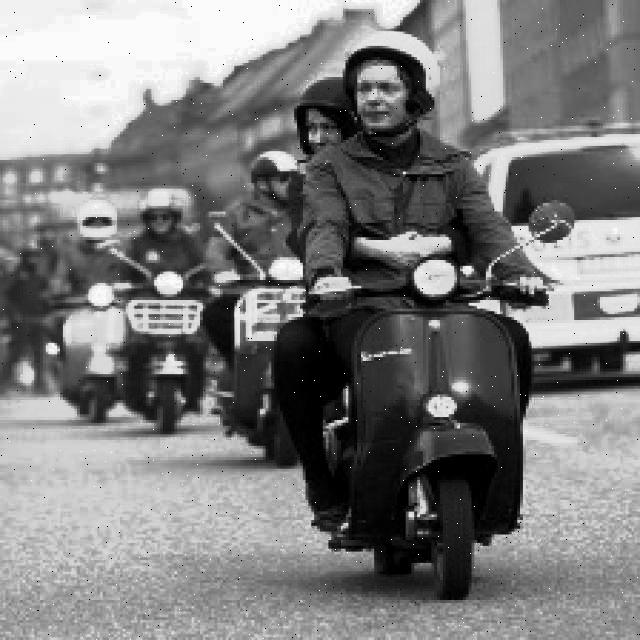Bike: (329, 275, 533, 613), (216, 271, 304, 460), (130, 273, 206, 437), (66, 297, 125, 426)
